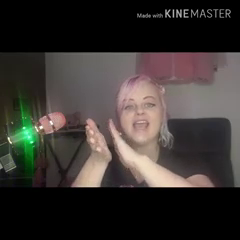H: (81, 115, 136, 170)
